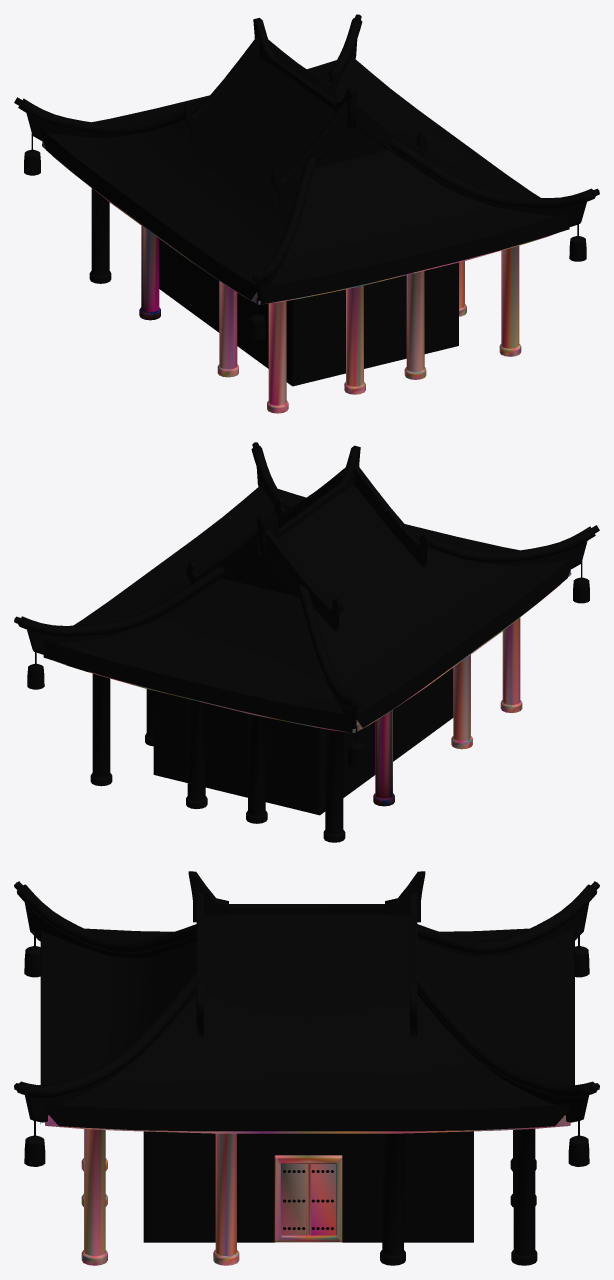
Rendered from CHN_SmallHouse01.gltf.
The picture shows the model from 3 angles, top to bottom: view 1: azimuth 30°, elevation 25°; view 2: azimuth 150°, elevation 25°; view 3: azimuth 270°, elevation 25°; orthographic projection. The views are drawn at different scales.
Parts seen in each view (by area): view 1: CHN_SmallHouse01; view 2: CHN_SmallHouse01; view 3: CHN_SmallHouse01.
Part boxes in pixels (box(x1,y1,x2,y2)): CHN_SmallHouse01: box(14, 14, 599, 413); CHN_SmallHouse01: box(14, 442, 599, 842); CHN_SmallHouse01: box(14, 871, 599, 1265).
Size of the model in its own units: 16.76 by 12.15 by 20.25.
